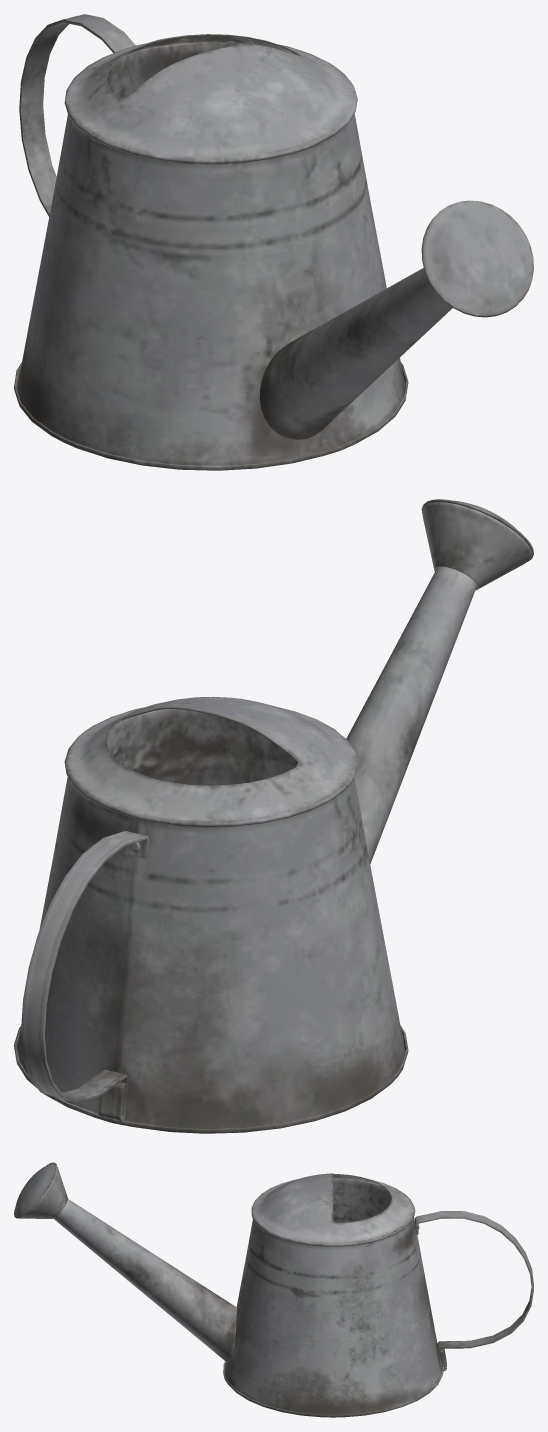
Rendered from watering_can_metal_01.glb.
The picture shows the model from 3 angles, top to bottom: view 1: azimuth 30°, elevation 25°; view 2: azimuth 150°, elevation 25°; view 3: azimuth 270°, elevation 25°; orthographic projection. The views are drawn at different scales.
Visible parts, largest first — view 1: watering_can_metal_01; view 2: watering_can_metal_01; view 3: watering_can_metal_01.
Boxes of the visible parts, left/top/right/bottom form: watering_can_metal_01: left=14, top=14, right=533, bottom=470; watering_can_metal_01: left=14, top=499, right=533, bottom=1133; watering_can_metal_01: left=14, top=1162, right=533, bottom=1417.
Bounding box in the file's own units: 0.191 × 0.1968 × 0.4523.
1 material, 1 textured.
